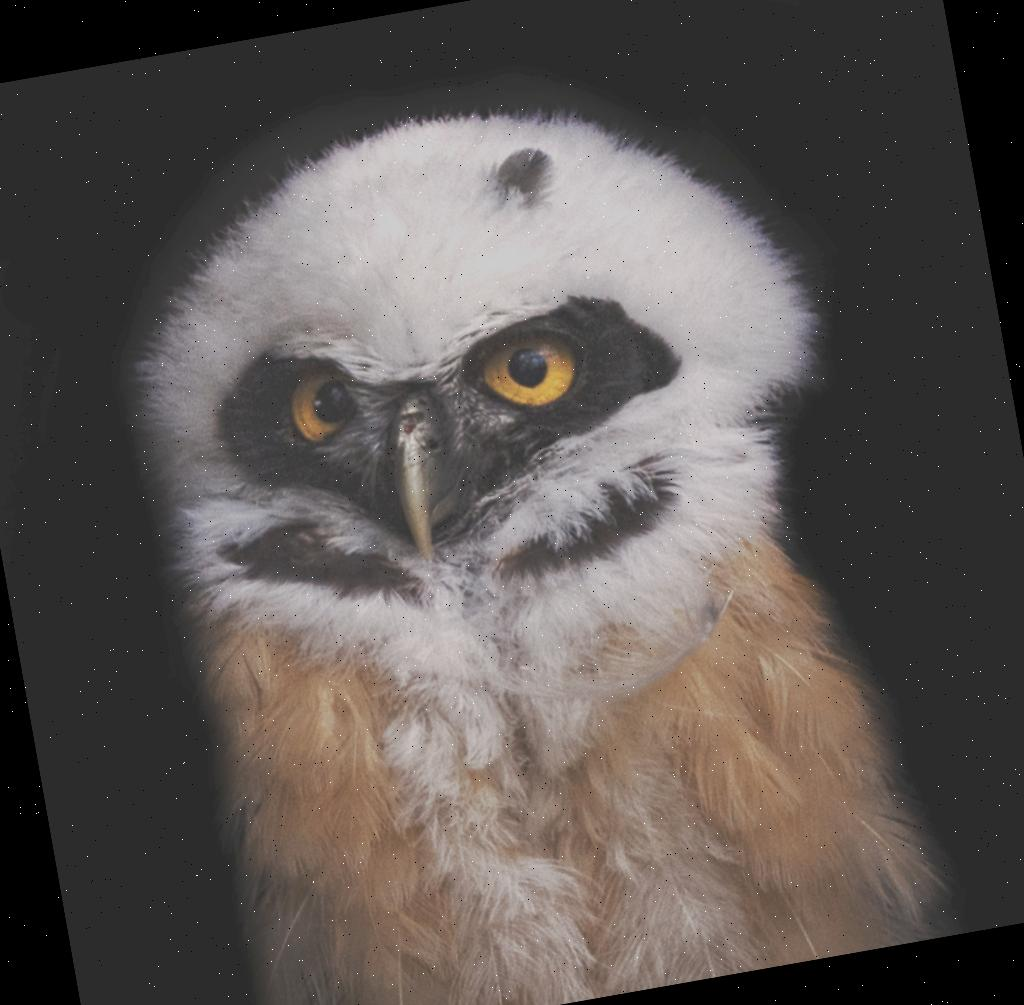Owl: (102, 45, 952, 1005)
